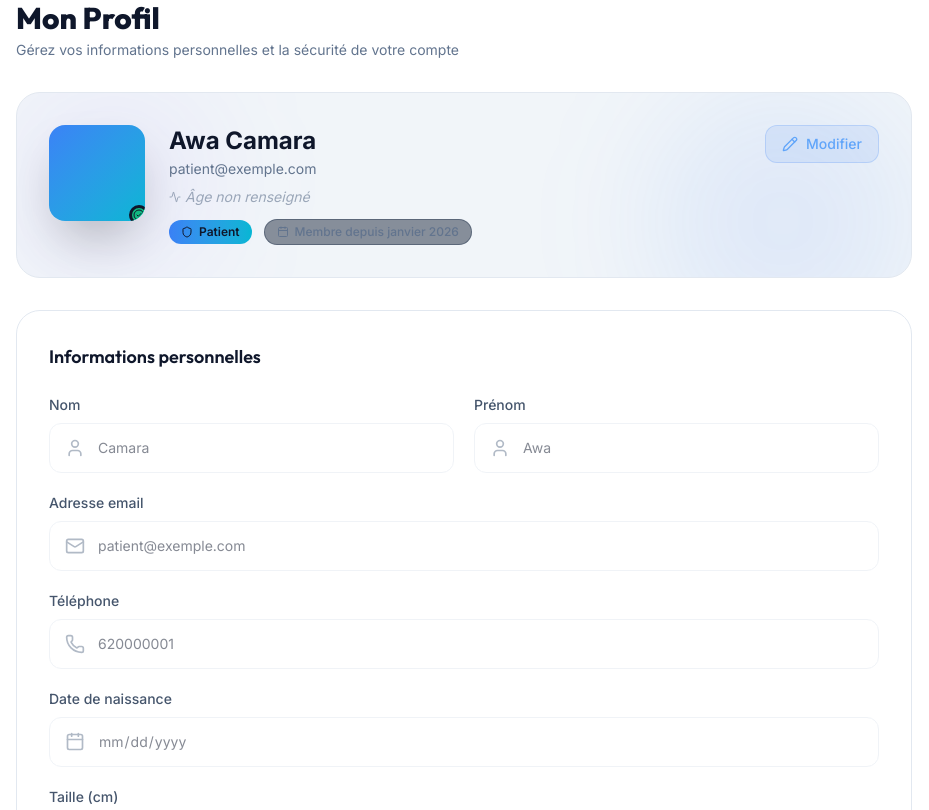
it: Profil : téléphone › affiche sous le champ un numéro déjà utilisé et garde le mode modification
The width and height of the screenshot is (929, 810).
Click the button "Modifier" at (822,144), box x1=765 y1=125 x2=879 y2=163
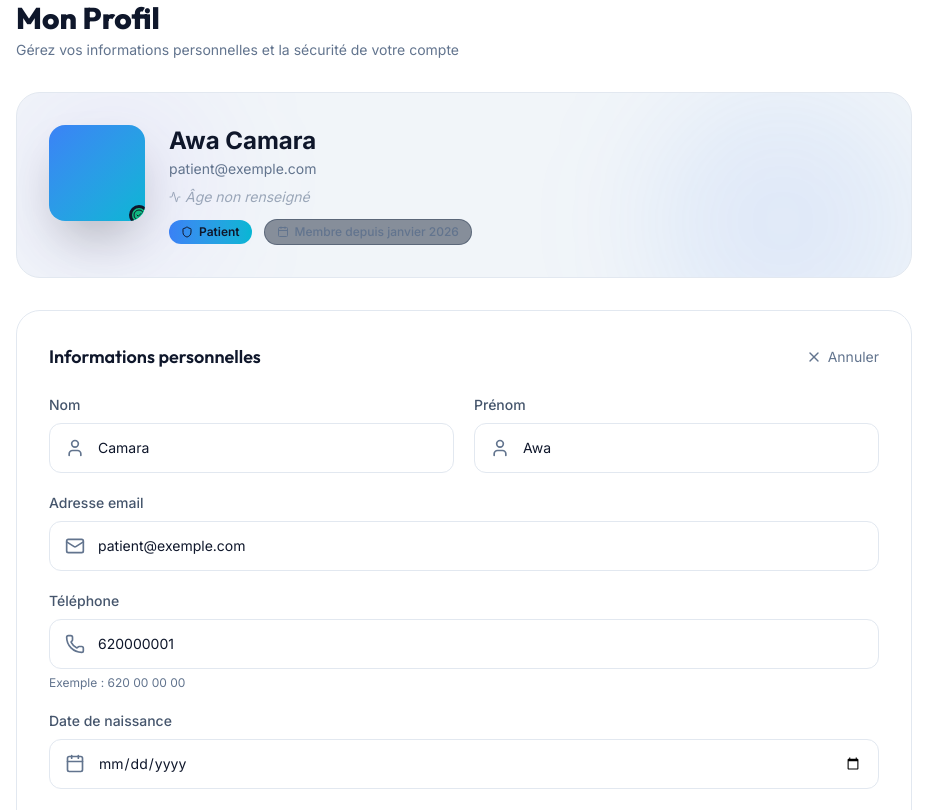
Replace the text in the field labelled "Téléphone" with "620000002" at (464,644), box x1=49 y1=619 x2=879 y2=669
(page scrolled)
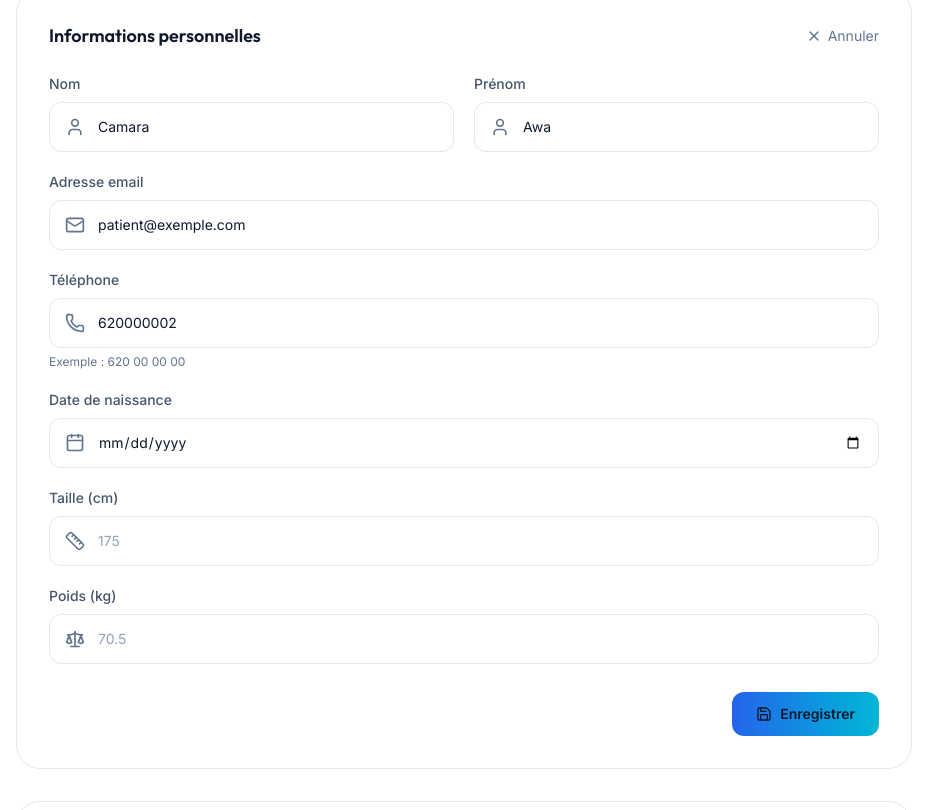
Submit the form named "Enregistrer"
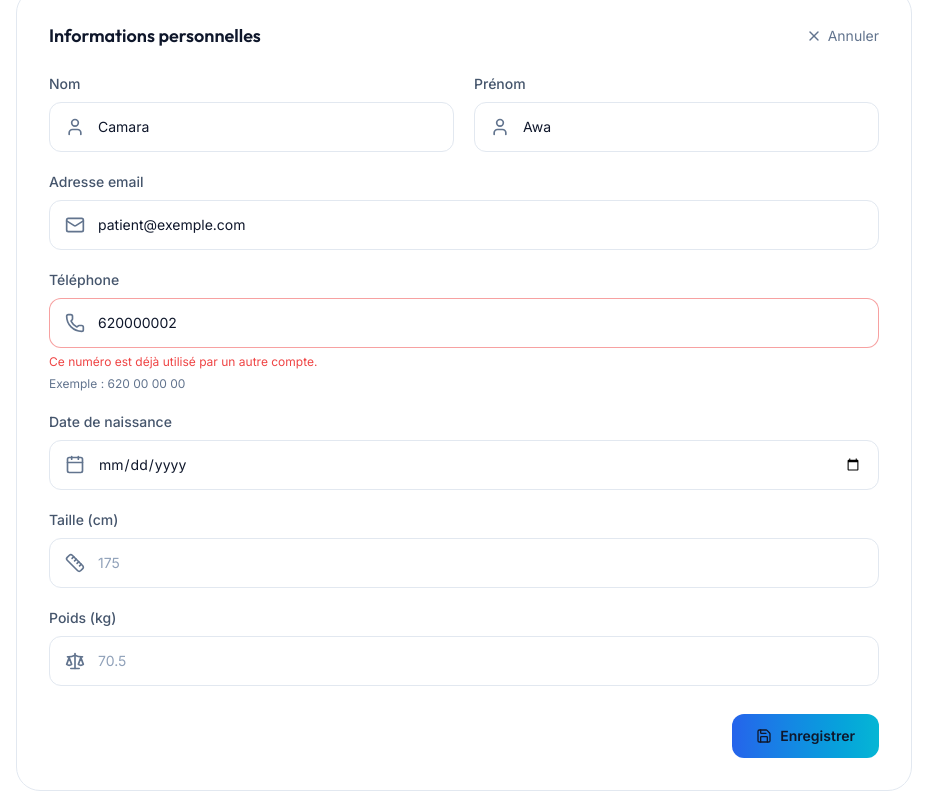
Expected: the field labelled "Téléphone" is enabled, x1=49 y1=298 x2=879 y2=348
Expected: the text "Ce numéro est déjà utilisé par un autre compte." is shown once, x1=49 y1=354 x2=317 y2=369
Expected: the text "Ce numéro est déjà utilisé par un autre compte." is shown, x1=49 y1=354 x2=317 y2=369
